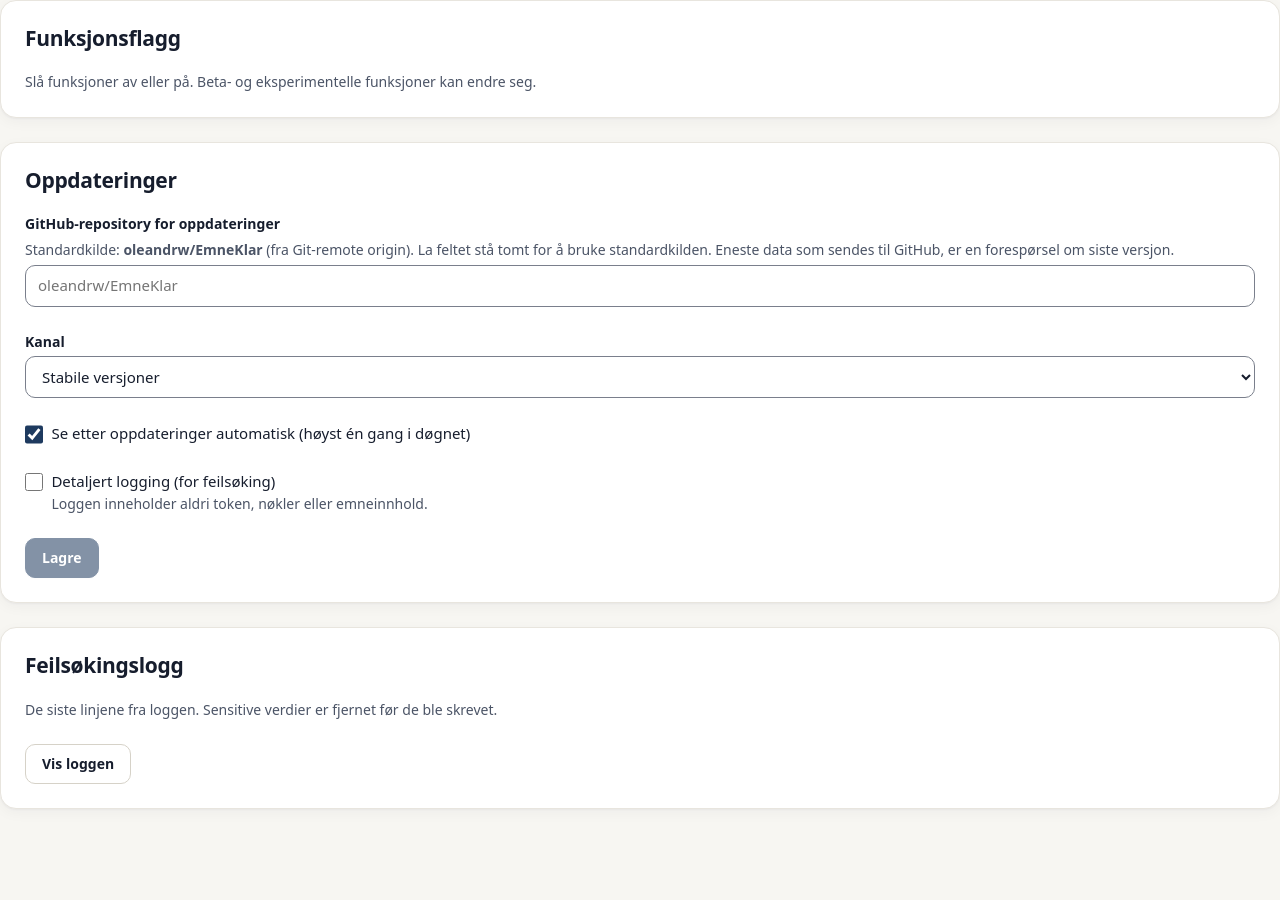
Test case: update source › treats the standard source in other letters as the standard source – another repository still needs confirming
Expected: the text "oleandrw/EmneKlar" is shown, x1=123 y1=240 x2=263 y2=259
Type "Oleandrw/emneklar" into the field labelled "GitHub-repository for oppdateringer" at [640, 286], box x1=25 y1=265 x2=1255 y2=307
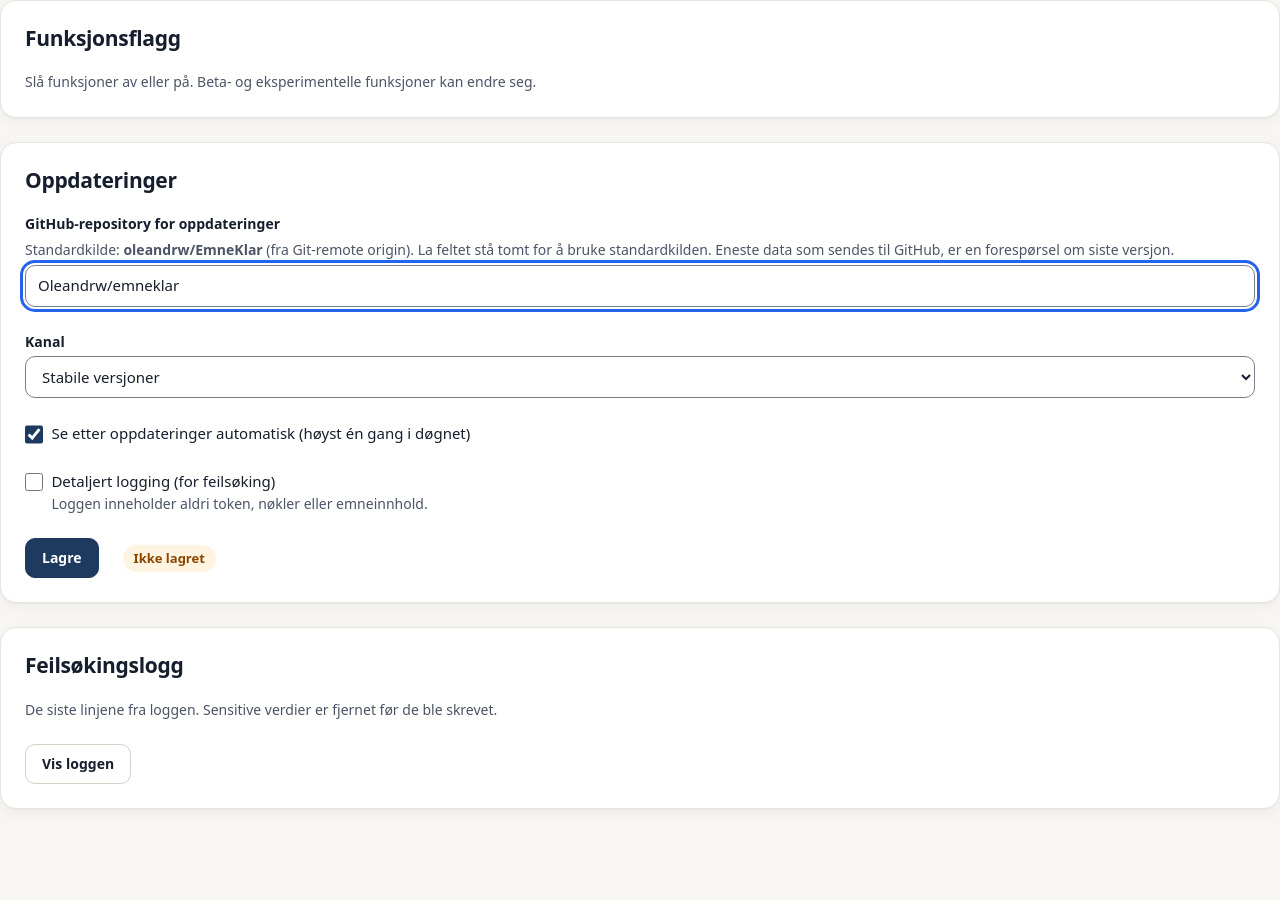
Expected: the text "Et annet repository betyr en annen kilde for oppdateringer" is not shown
Click the button "Lagre" at [62, 558], box x1=25 y1=538 x2=99 y2=578
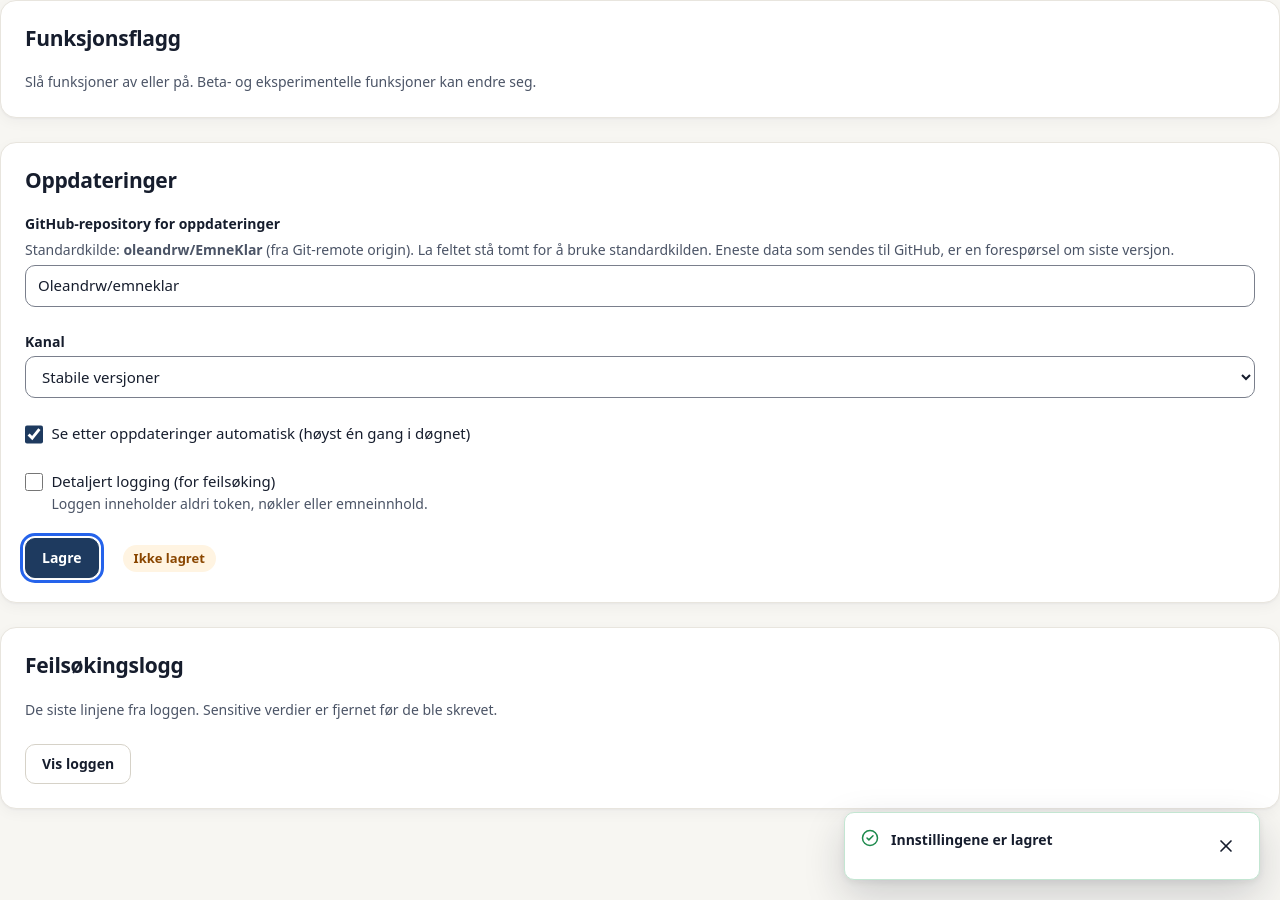
Replace the text in the field labelled "GitHub-repository for oppdateringer" with "fremmed/emneklar" at [640, 286], box x1=25 y1=265 x2=1255 y2=307
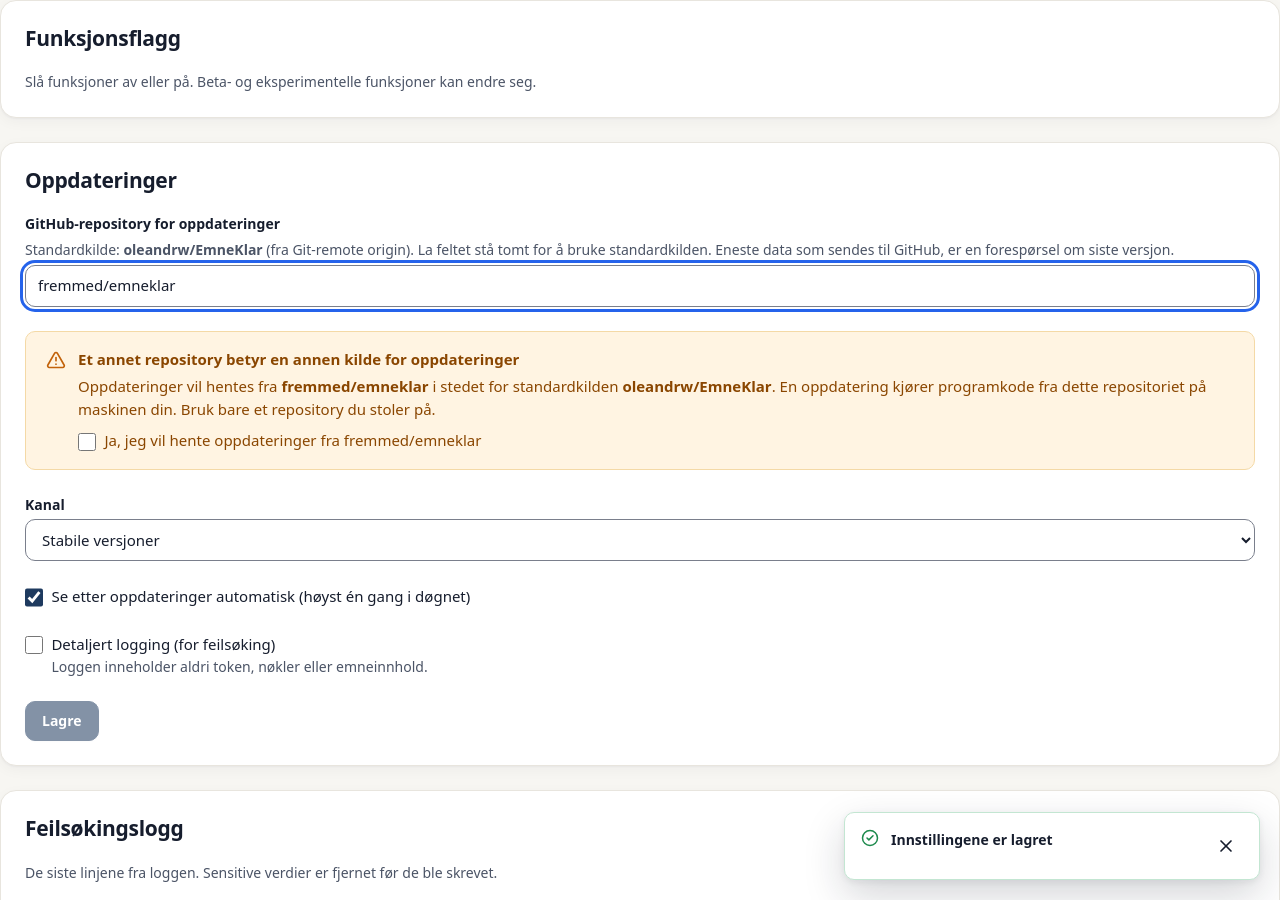
Now the text "Et annet repository betyr en annen kilde for oppdateringer" is shown, box x1=78 y1=349 x2=519 y2=369
